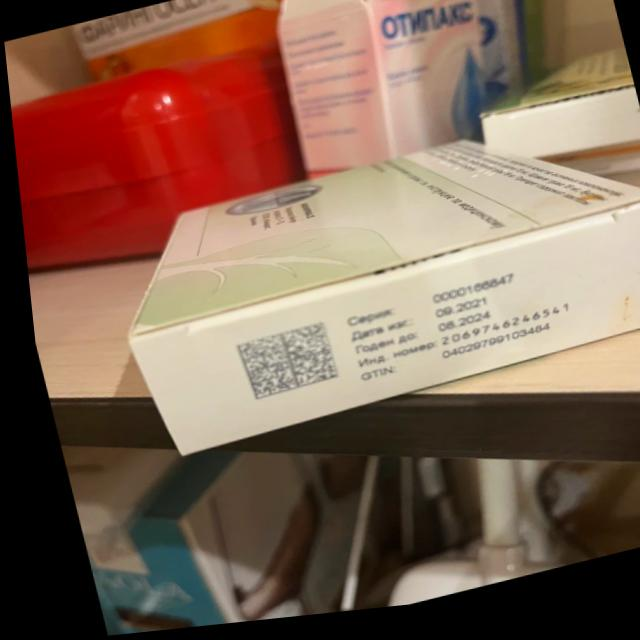datamatrix: (228, 326, 336, 408)
